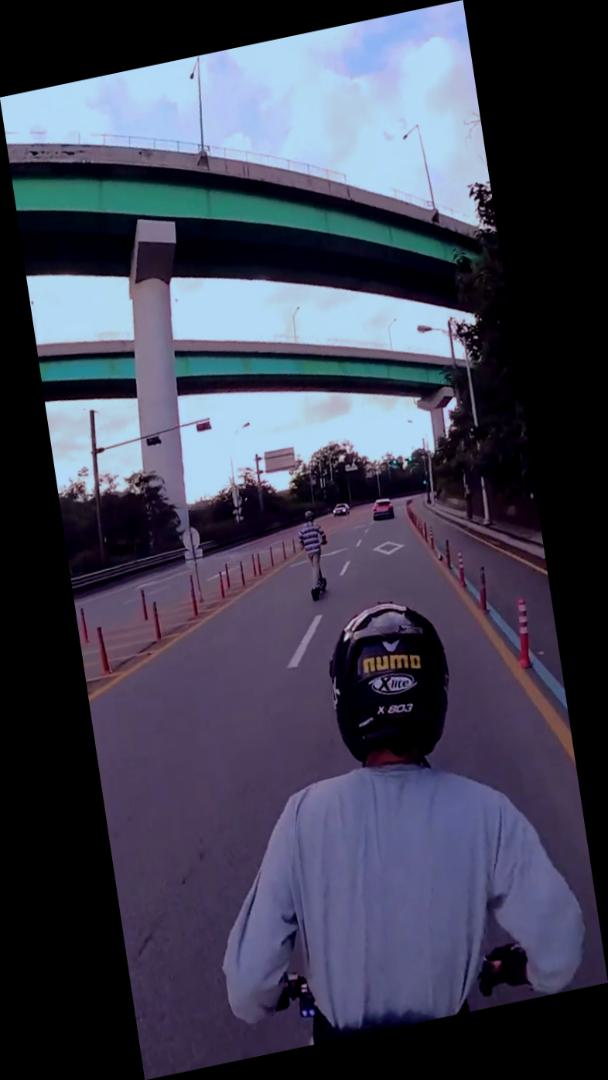helmet: (293, 506, 337, 605)
